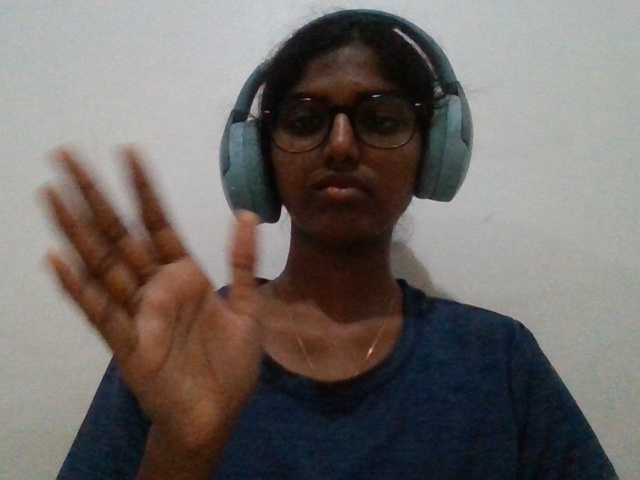Bye: (12, 138, 283, 469)
